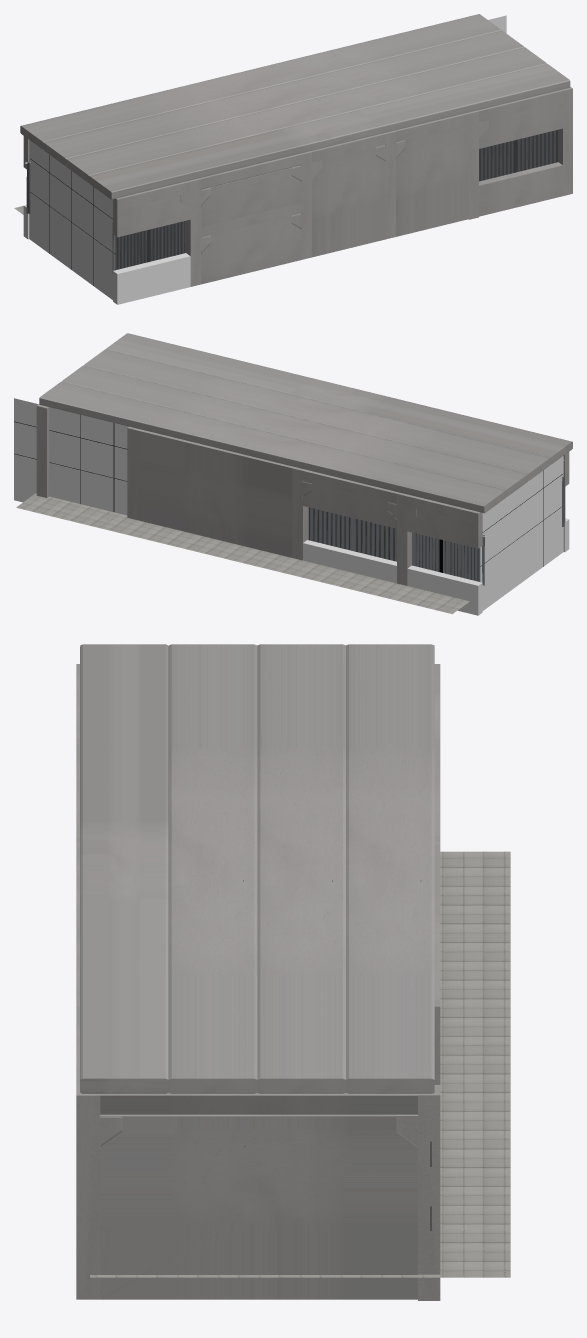
File: Cenário.fbx
The picture shows the model from 3 angles, top to bottom: view 1: azimuth 30°, elevation 25°; view 2: azimuth 150°, elevation 25°; view 3: azimuth 270°, elevation 25°; orthographic projection. The views are drawn at different scales.
Visible parts, largest first — view 1: Cube, Cube.004, Cube.002, Cube.003, Cube.005, Viga.006, Viga.008, Viga.004, Viga.003, Viga.020, Viga.014, Viga.024 (+16 smaller); view 2: Viga.012, Cube.004, Cube.002, Cube.003, Cube, Cube.012, Plane, Cube.005, Viga.011, Viga.017, Viga.016, Viga.025 (+10 smaller); view 3: Viga.023, Cube.002, Cube, Cube.003, Cube.004, Plane, Viga.022, Pilar_1.002, Pilar_2.002, Viga.012.
Part boxes in pixels (x1=…): Cube: x1=89, y1=64, x2=570, y2=199; Cube.004: x1=20, y1=14, x2=501, y2=149; Cube.002: x1=66, y1=47, x2=547, y2=182; Cube.003: x1=43, y1=30, x2=524, y2=165; Cube.005: x1=29, y1=140, x2=115, y2=299; Viga.006: x1=312, y1=147, x2=385, y2=257; Viga.008: x1=396, y1=127, x2=468, y2=236; Viga.004: x1=201, y1=215, x2=301, y2=284; Viga.003: x1=201, y1=167, x2=301, y2=226; Viga.020: x1=479, y1=162, x2=562, y2=216; Viga.014: x1=113, y1=253, x2=190, y2=304; Viga.024: x1=479, y1=104, x2=562, y2=148; Viga.012: x1=138, y1=429, x2=293, y2=557; Cube.004: x1=39, y1=382, x2=506, y2=513; Cube.002: x1=84, y1=349, x2=550, y2=480; Cube.003: x1=61, y1=365, x2=528, y2=496; Cube: x1=106, y1=333, x2=572, y2=464; Cube.012: x1=14, y1=398, x2=128, y2=515; Plane: x1=16, y1=493, x2=469, y2=614; Cube.005: x1=480, y1=456, x2=563, y2=610; Viga.011: x1=303, y1=483, x2=396, y2=528; Viga.017: x1=303, y1=540, x2=396, y2=583; Viga.016: x1=407, y1=565, x2=482, y2=615; Viga.025: x1=407, y1=509, x2=482, y2=548; Viga.023: x1=100, y1=1114, x2=417, y2=1299; Cube.002: x1=168, y1=644, x2=257, y2=1093; Cube: x1=80, y1=644, x2=168, y2=1093; Cube.003: x1=257, y1=644, x2=345, y2=1093; Cube.004: x1=346, y1=644, x2=434, y2=1093; Plane: x1=90, y1=851, x2=510, y2=1277; Viga.022: x1=100, y1=1092, x2=417, y2=1114; Pilar_1.002: x1=76, y1=1086, x2=122, y2=1299; Pilar_2.002: x1=396, y1=1085, x2=440, y2=1300; Viga.012: x1=434, y1=845, x2=440, y2=996.
Bounding box in the file's own units: 6437 × 1442 × 2571.
